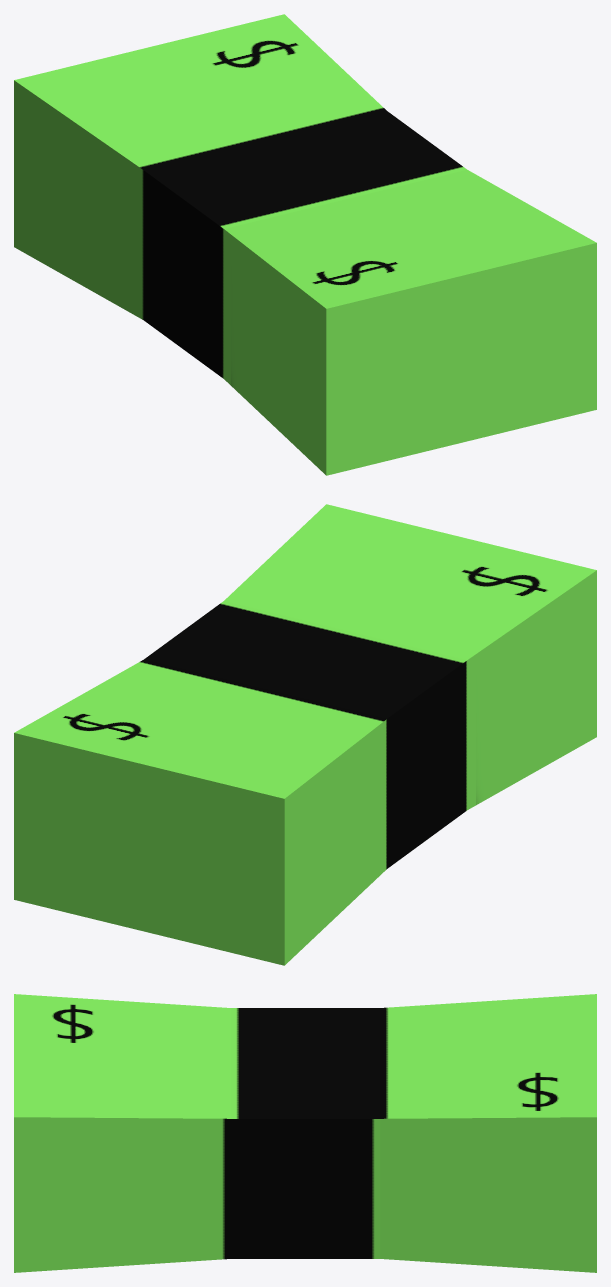
The model's file is money.obj.
3 renders of one model, top to bottom at view 1: azimuth 30°, elevation 25°; view 2: azimuth 150°, elevation 25°; view 3: azimuth 270°, elevation 25°, orthographic. The views are drawn at different scales.
Visible parts, largest first — view 1: Cube_Cube.001; view 2: Cube_Cube.001; view 3: Cube_Cube.001.
Boxes of the visible parts, x1,y1,x2,y2 form: Cube_Cube.001: [14, 14, 596, 475]; Cube_Cube.001: [14, 504, 596, 965]; Cube_Cube.001: [14, 994, 596, 1272].
Size of the model in its own units: 2.22 by 1.31 by 4.45.
